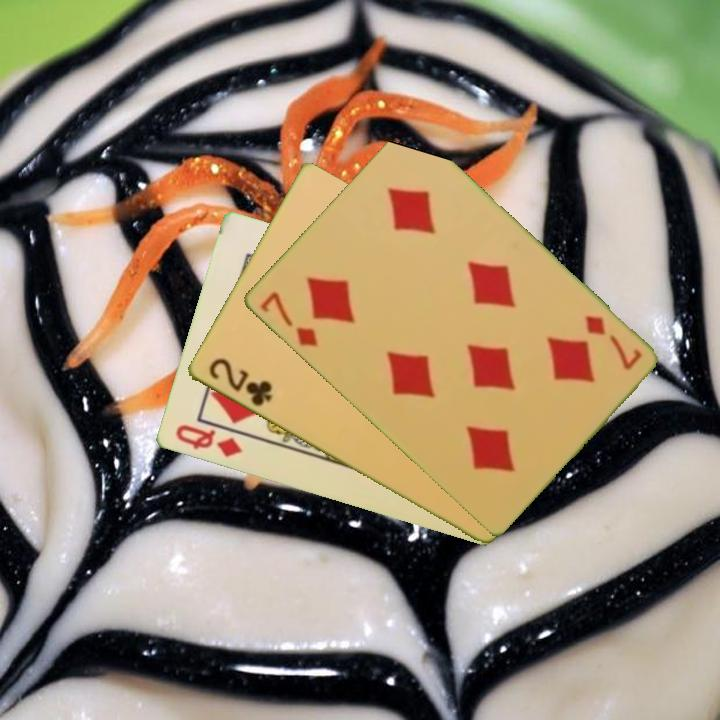2c: (204, 354, 275, 410)
7d: (580, 311, 644, 374), (256, 288, 321, 350)
Qd: (171, 421, 244, 461)
